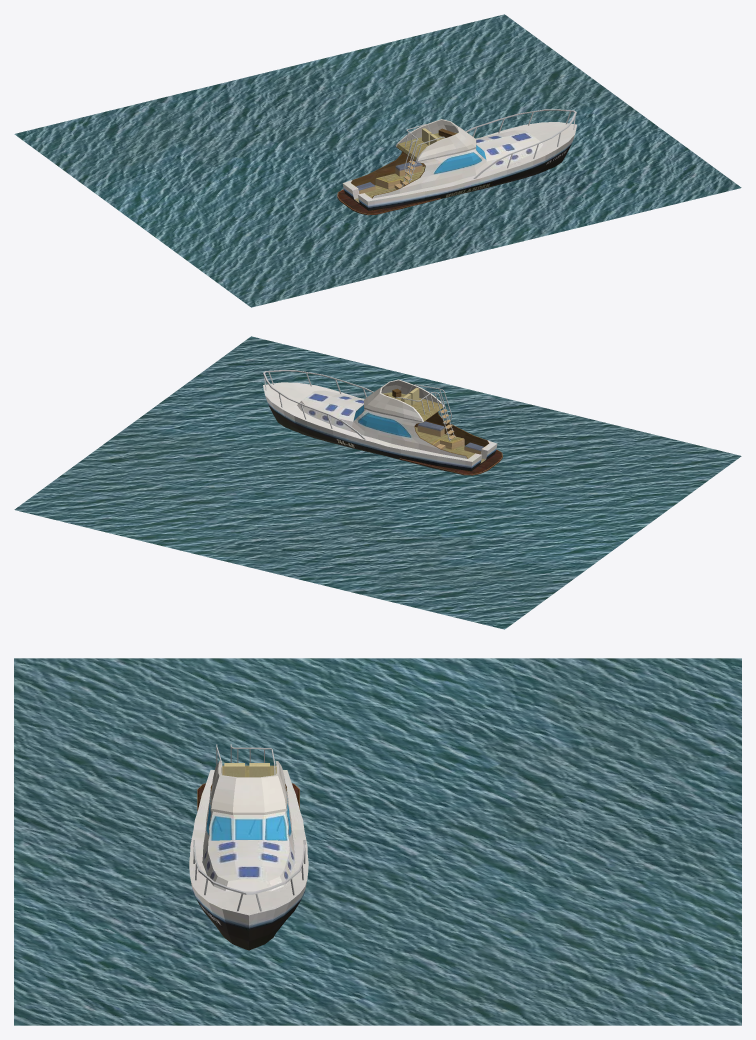
File: motoryacht.glb
3 views of the same model, one above another, from view 1: azimuth 30°, elevation 25°; view 2: azimuth 150°, elevation 25°; view 3: azimuth 270°, elevation 25° (orthographic). The views are drawn at different scales.
Visible parts, largest first — view 1: water, yacht-bdy, yacht-missc; view 2: water, yacht-bdy, yacht-missc; view 3: water, yacht-bdy, yacht-missc.
Part boxes in pixels (<box>): water: <box>14,14,741,307</box>; yacht-bdy: <box>342,119,576,210</box>; yacht-missc: <box>337,109,576,215</box>; water: <box>14,336,741,629</box>; yacht-bdy: <box>263,379,497,471</box>; yacht-missc: <box>263,370,502,475</box>; water: <box>14,658,741,1025</box>; yacht-bdy: <box>189,761,308,950</box>; yacht-missc: <box>193,744,305,911</box>.
Bounding box in the file's own units: 27.81 × 3.29 × 23.28.
Materials: 3 (3 with a texture image).
